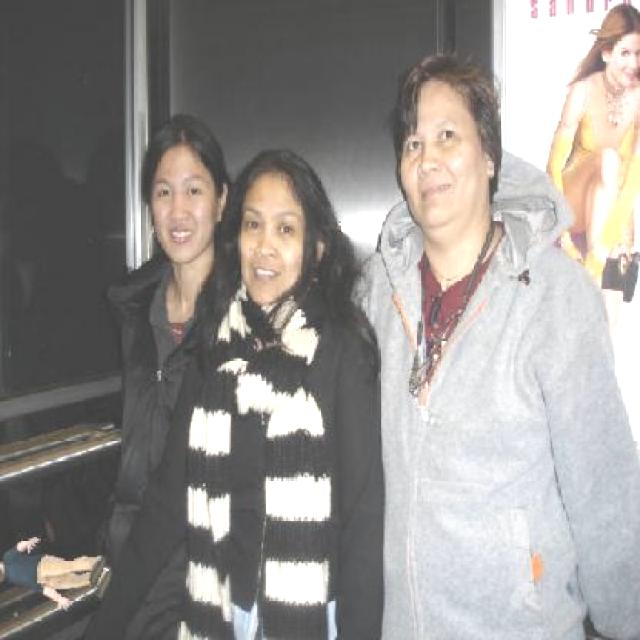Person: (0, 531, 118, 613)
